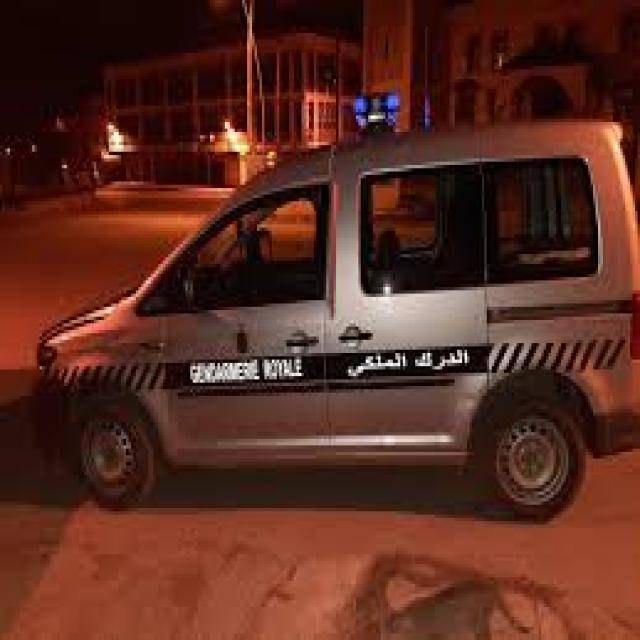gendarme car: (30, 84, 640, 532)
